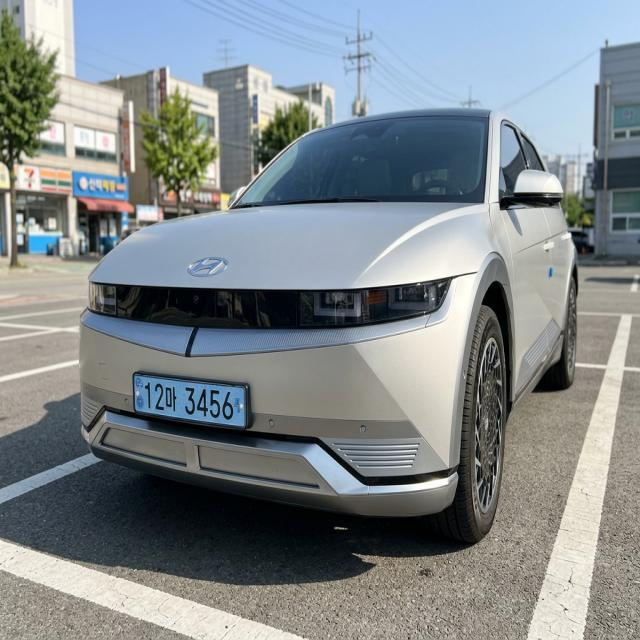car: (116, 365, 272, 438)
carev: (232, 386, 248, 433), (133, 372, 145, 416)
